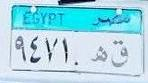1: (62, 38, 70, 65)
4: (28, 35, 42, 65)
7: (45, 36, 58, 65)
9: (14, 34, 27, 64)
haa: (89, 44, 108, 66)
qaaf: (111, 38, 129, 69)
